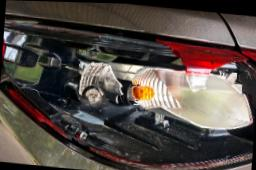Light: (0, 12, 256, 170)
